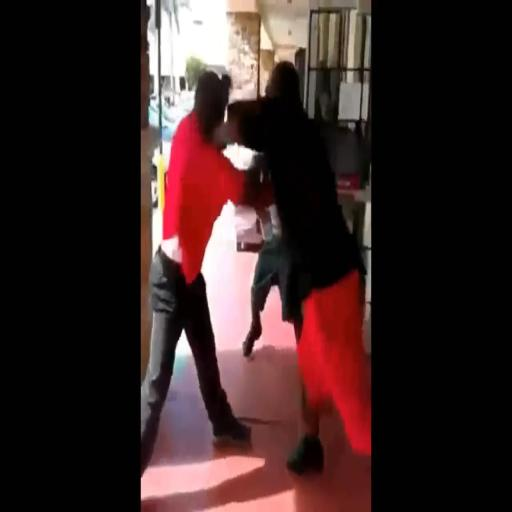violencia: (142, 42, 370, 510)
